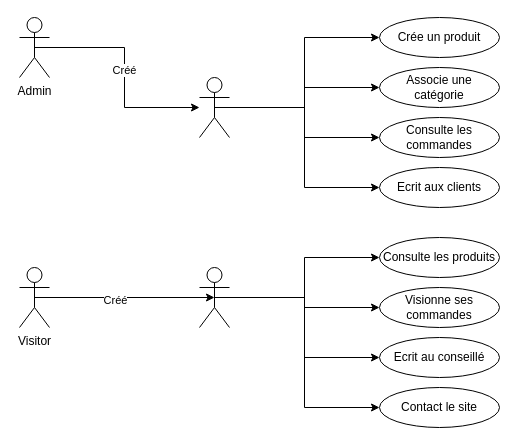
Some shapes in this 517 by 445 pixel diagram are drawn without their labels. The shapes that lost their labels are listed below. From the top down, each one's centre as x and y in pixels, then its label:
At point (214, 107): "Employes".
At point (214, 297): "Users".
